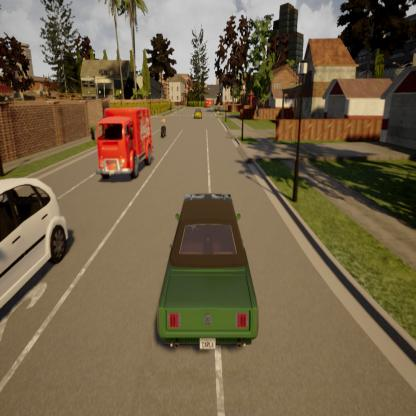Cars: (148, 182, 264, 361), (0, 169, 78, 330), (90, 100, 160, 192)
